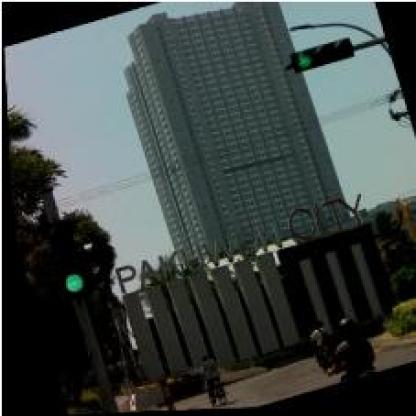green: (39, 216, 89, 301), (288, 37, 356, 73)
